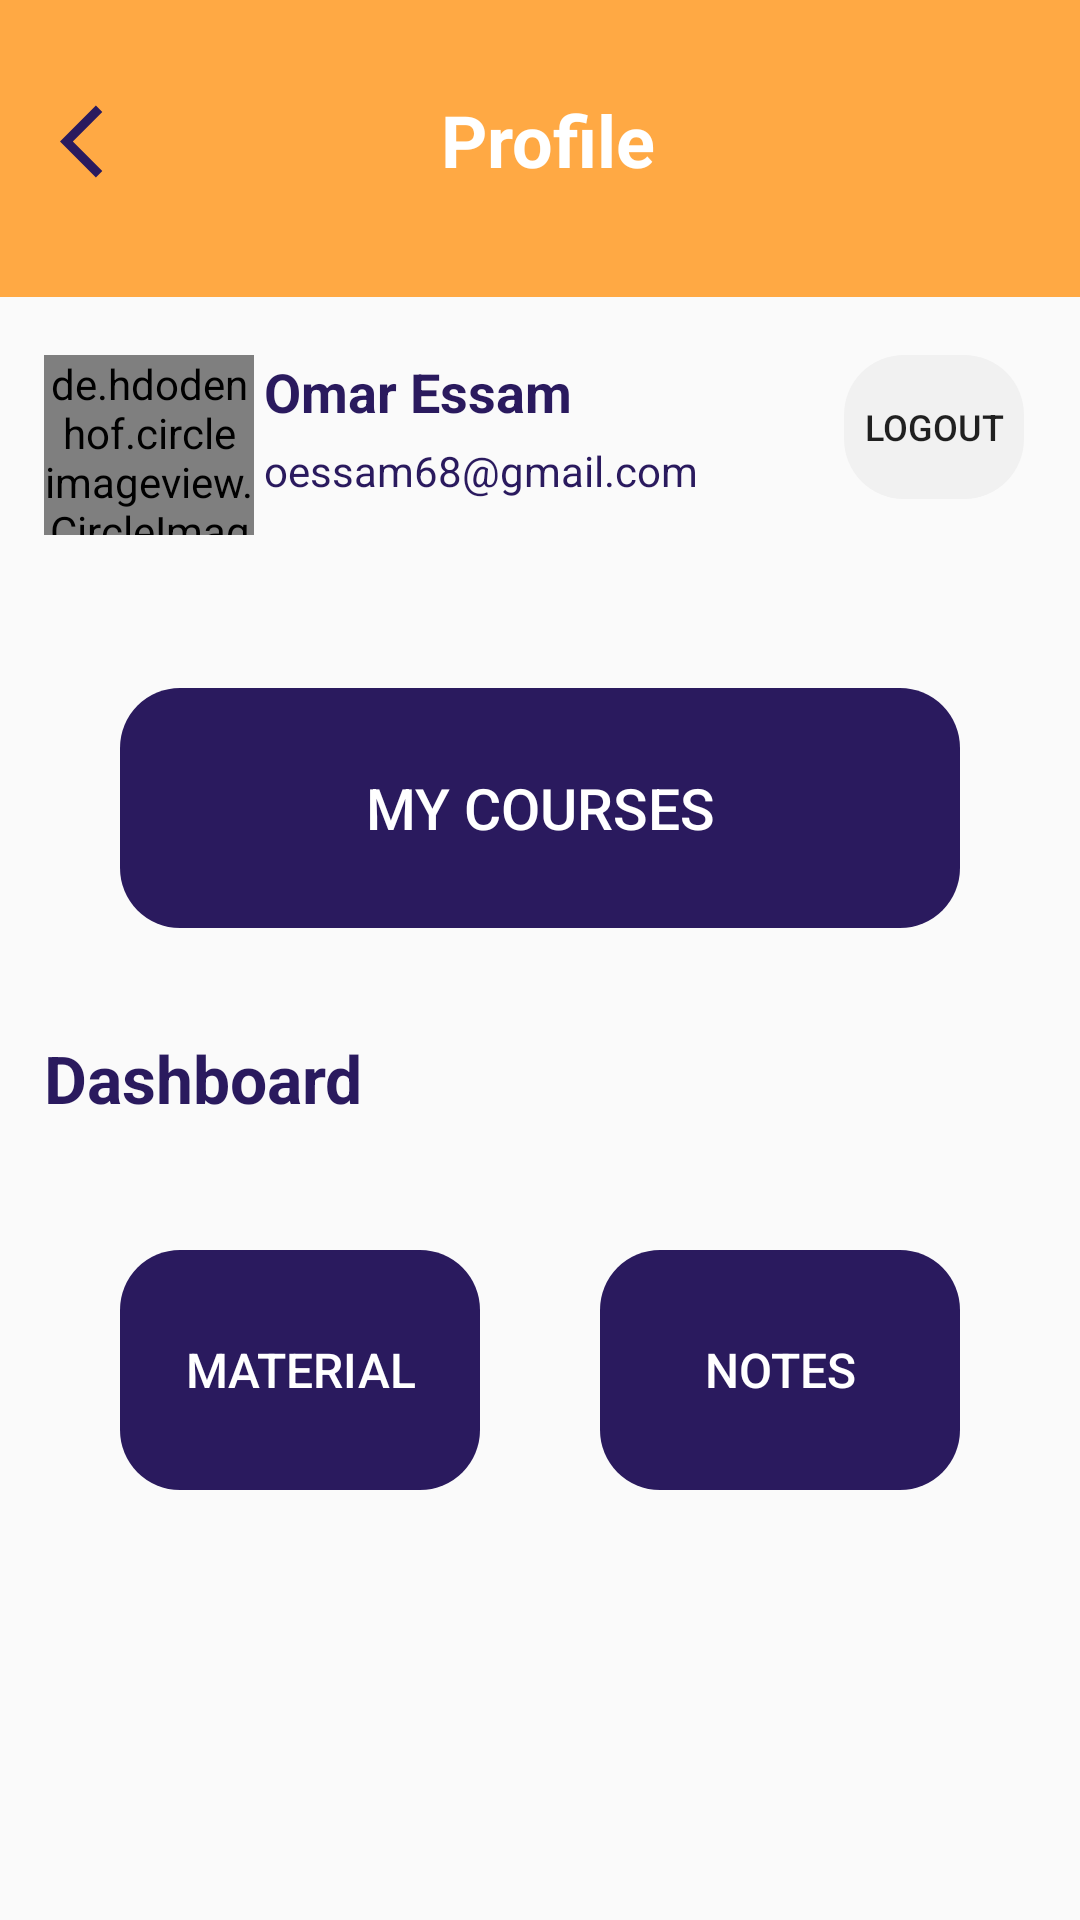

Locate icon controls on the screen. Image size 1080×1920, boxes as (x1, y1, x2, y2).
back toolbar: (60, 105, 102, 178)
